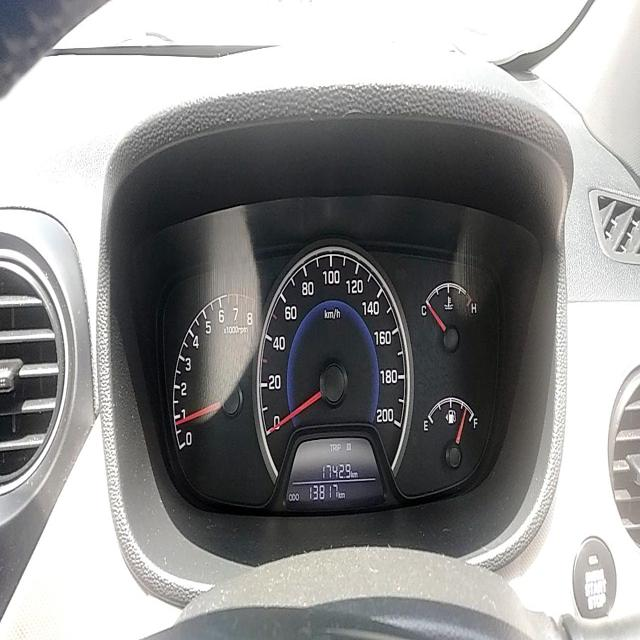odometer: (307, 480, 339, 500)
